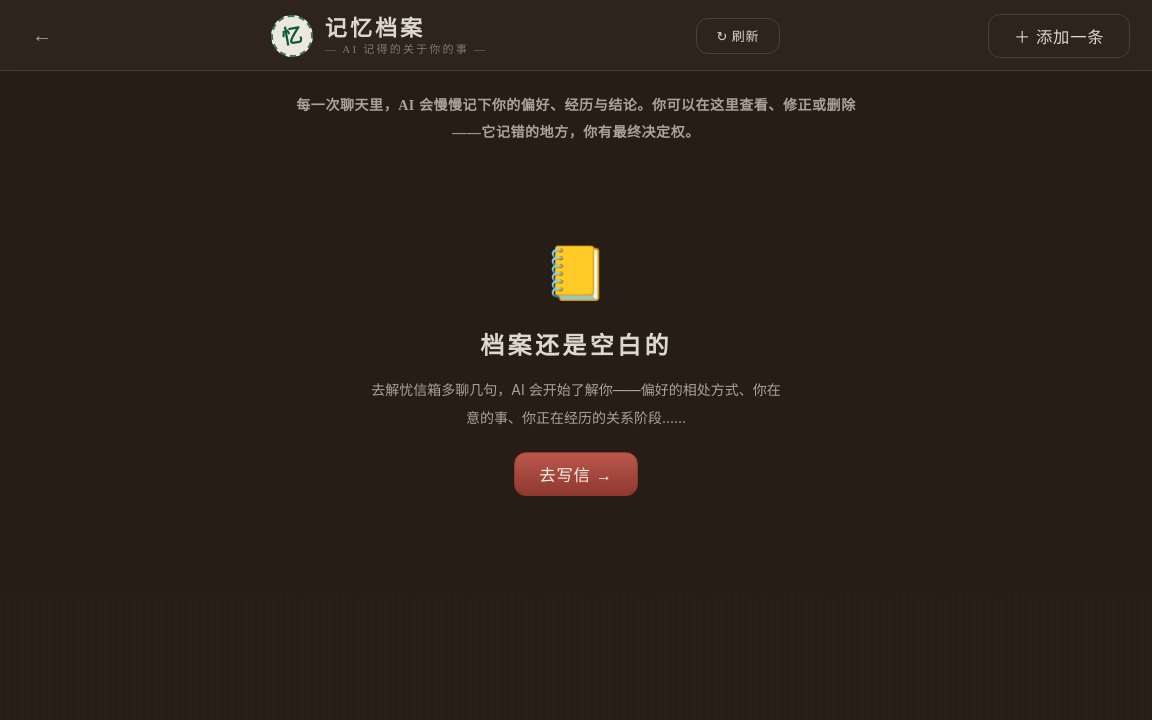
Test: MemoryArchive.vue › 新增成功文案为绿色提示（addMsgErr=false），且 adding 收敛后按钮恢复可点
The width and height of the screenshot is (1152, 720).
Click the button "＋ 添加一条": click(1059, 36) [988,14,1130,58]
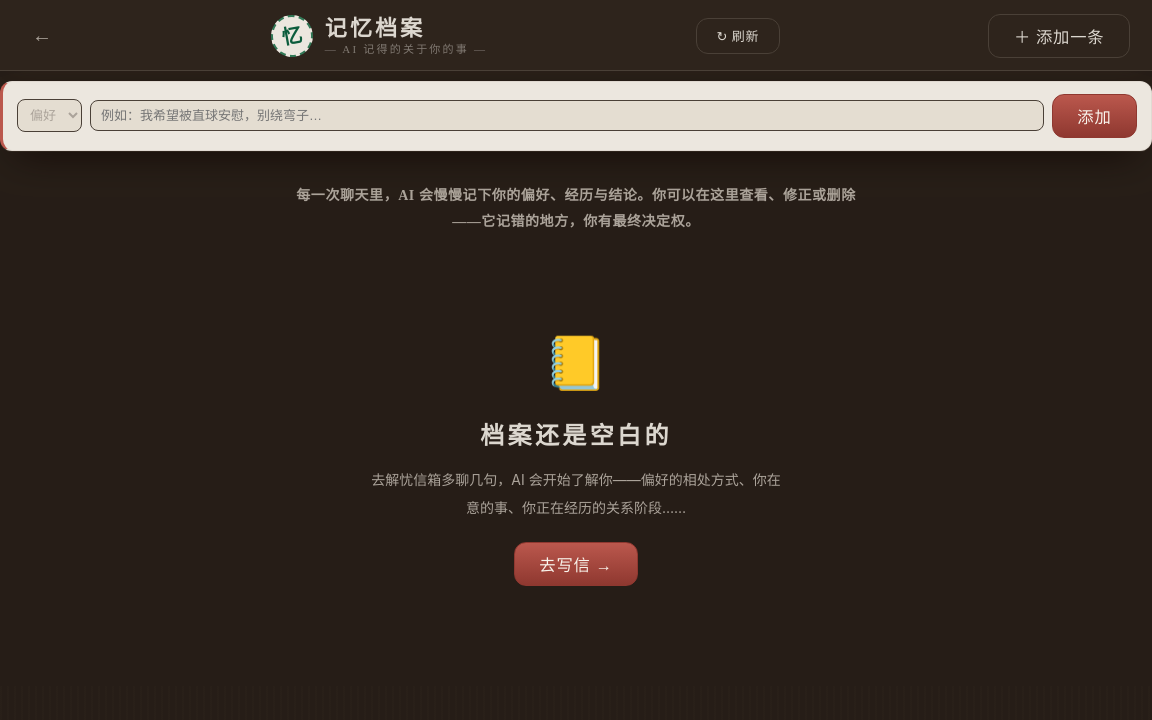
In the field with class "add-input": (567, 116) [90,100,1044,131], type "我会记得你"
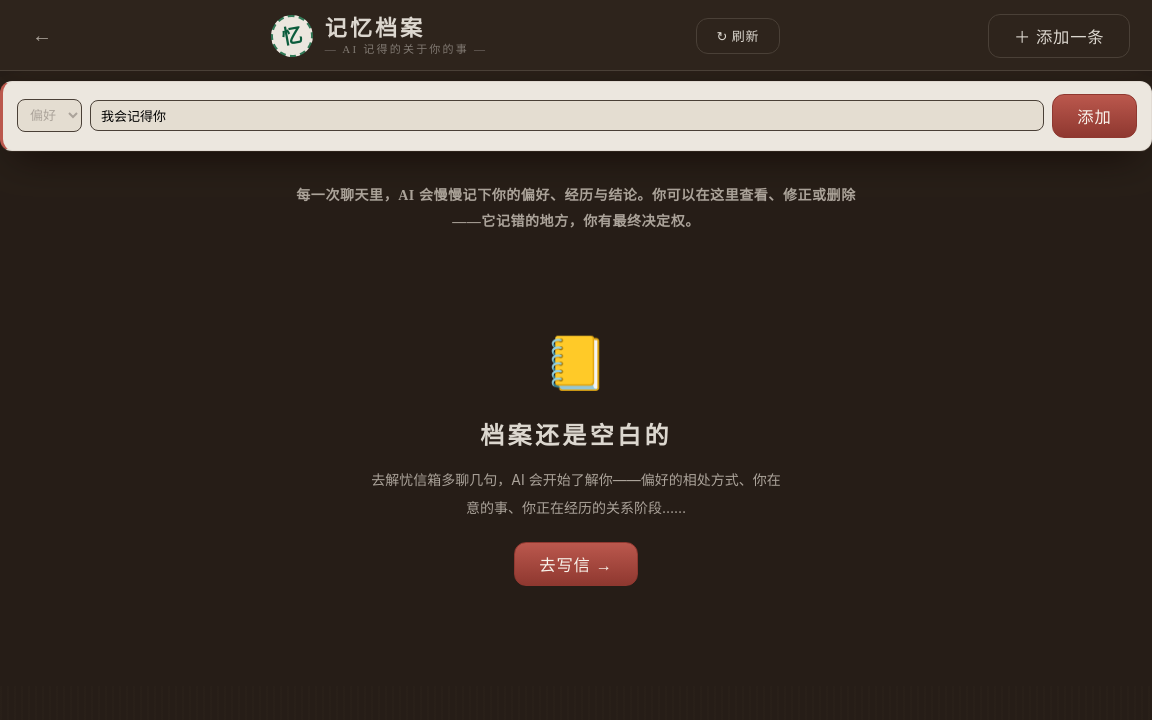
Click the button with class "btn-hand" showing "添加": click(1094, 116) [1052,94,1137,138]
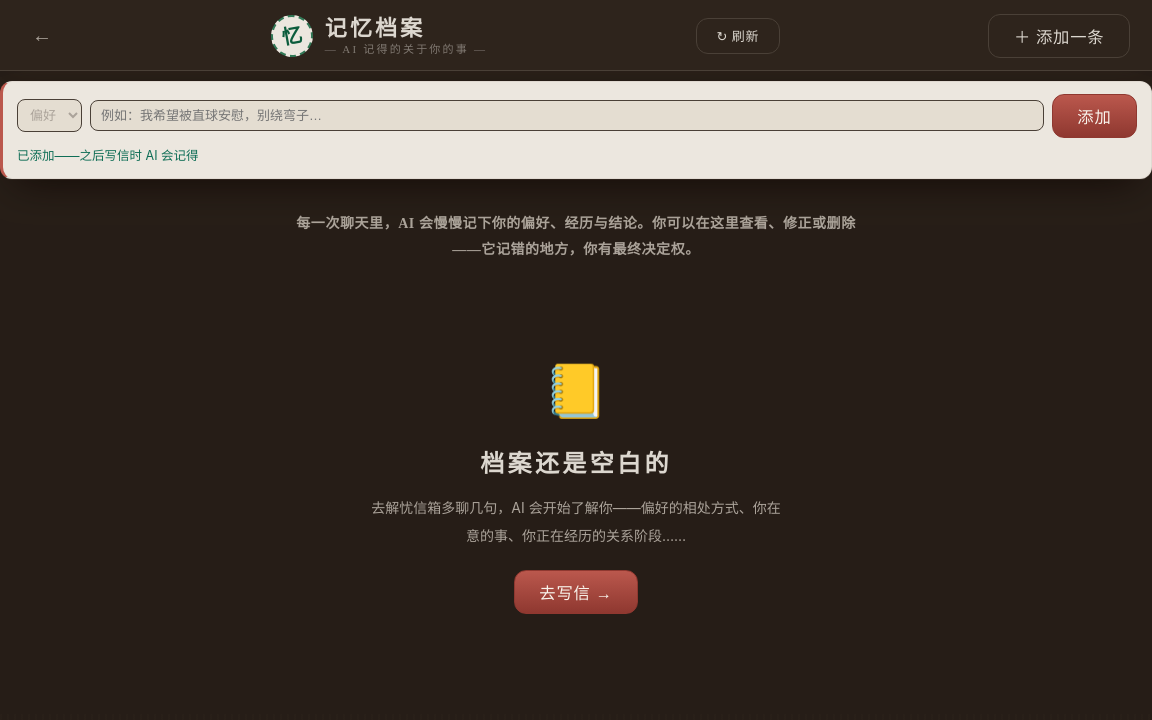
Expected: the button with class "btn-hand" reads "添加", [1052,94,1137,138]
Expected: the text with class "add-msg" shows "已添加", [17,148,198,163]
